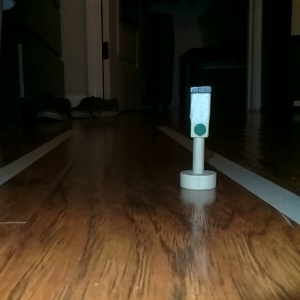traffic light green: (178, 83, 218, 192)
